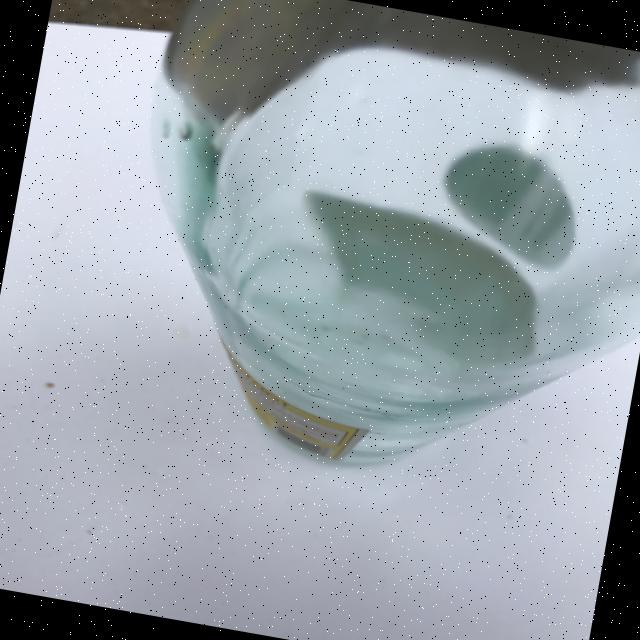glass: (93, 0, 640, 512)
